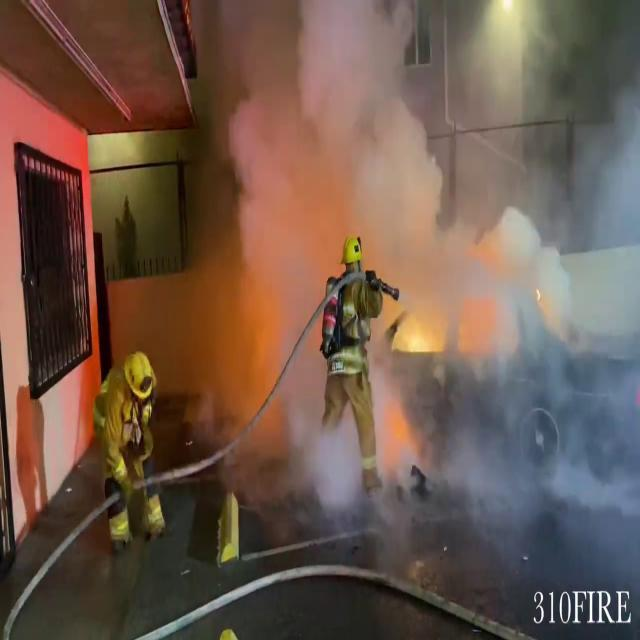Smoke: (175, 0, 640, 491)
